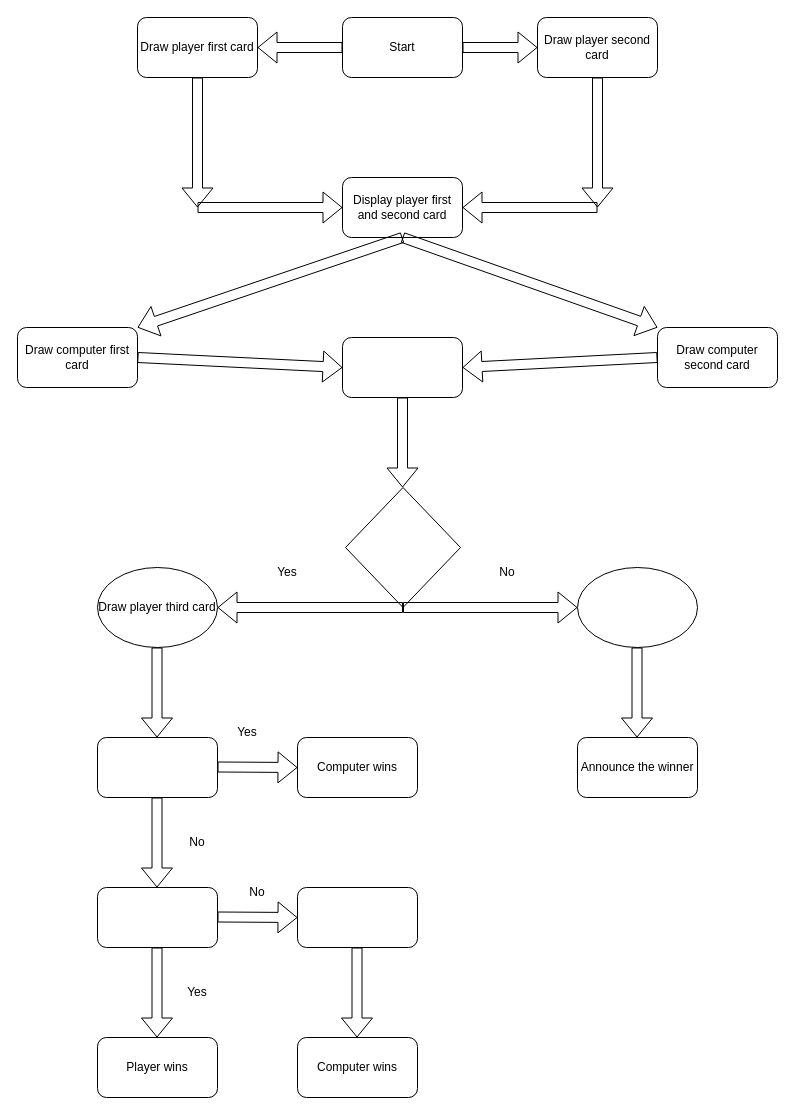
Some shapes in this 795 by 1115 pixel diagram are drawn without their labels. The box of each missing label's shape, as (x1, y1, x2, y2) in pixels:
Ask the player if he wants to draw one more card: (344, 486, 460, 608)
Computer cards > player cards: (296, 886, 418, 948)
Display only first computer card: (342, 336, 462, 398)
Player cards > 21?: (96, 736, 218, 798)
Player cards > computer cards: (96, 886, 218, 948)
Reveal the computer second card and: (576, 566, 698, 648)
